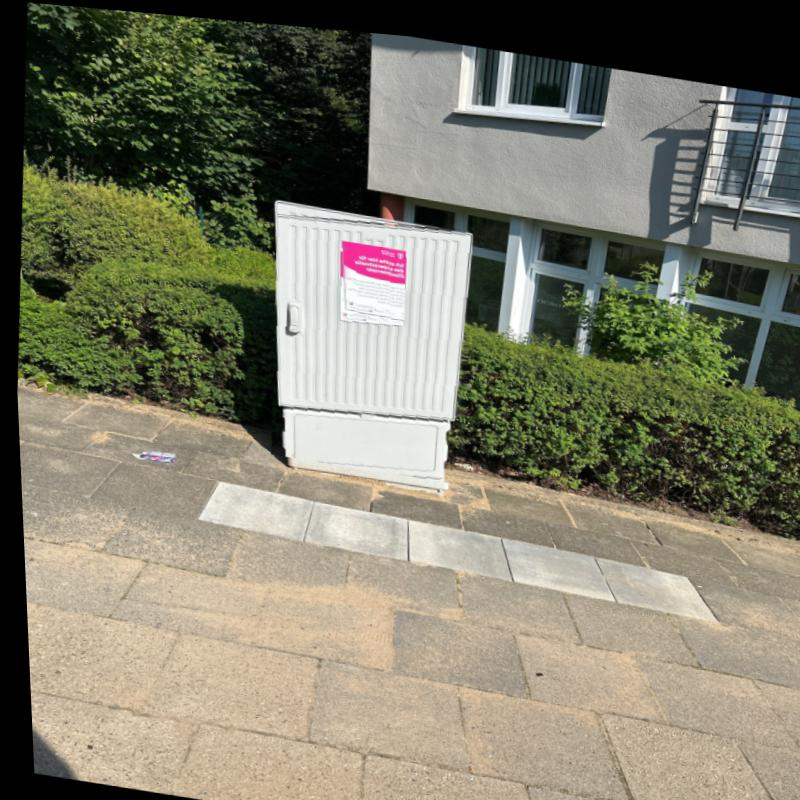NT-Gehause: (275, 205, 470, 470)
Steaker: (339, 234, 402, 313)
